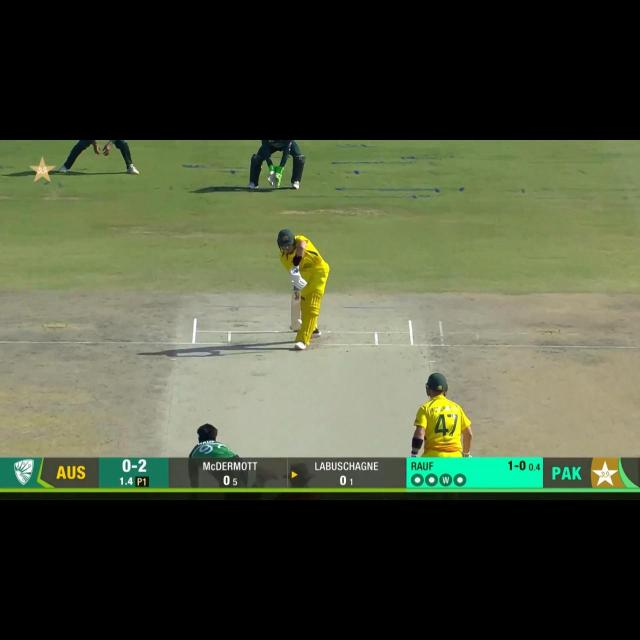bat: (289, 290, 301, 333)
toe: (290, 321, 301, 331)
